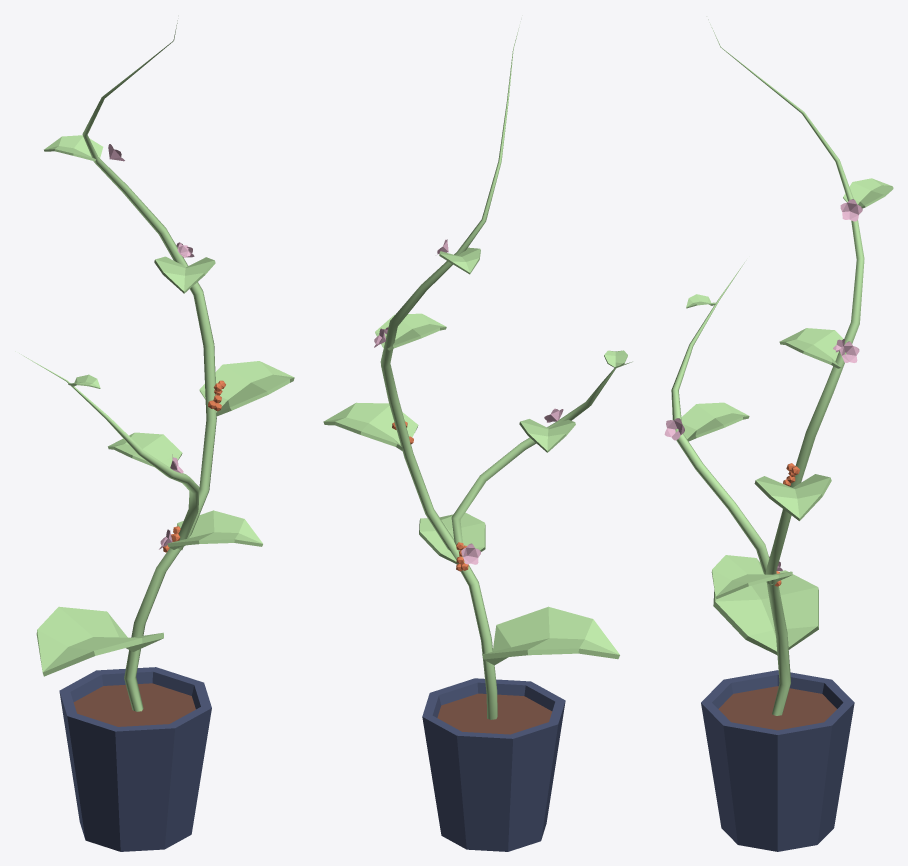
File: Level2.3.fbx
3 renders of one model, left to right at view 1: azimuth 30°, elevation 25°; view 2: azimuth 150°, elevation 25°; view 3: azimuth 270°, elevation 25°, orthographic. The views are drawn at different scales.
Visible parts, largest first — view 1: Pot, Stem1, Leaf1, Leaf3, Leaf2, Stem2, Leaf3.003, Leaf3.001, Leaf3.004, Flower.004; view 2: Pot, Stem1, Leaf1, Leaf3, Stem2, Leaf2, Leaf3.001, Leaf3.003, Flower.004, Leaf3.004; view 3: Pot, Stem1, Leaf1, Stem2, Leaf3, Leaf2, Leaf3.003, Leaf3.001, Flower.004, Leaf3.004.
Part boxes in pixels (left/top/right/bottom): Pot: left=59, top=667, right=211, bottom=851; Stem1: left=82, top=20, right=216, bottom=711; Leaf1: left=36, top=606, right=163, bottom=676; Leaf3: left=199, top=361, right=294, bottom=416; Leaf2: left=167, top=510, right=262, bottom=549; Stem2: left=15, top=351, right=199, bottom=550; Leaf3.003: left=108, top=432, right=182, bottom=467; Leaf3.001: left=154, top=256, right=215, bottom=293; Leaf3.004: left=44, top=135, right=103, bottom=163; Flower.004: left=108, top=144, right=194, bottom=549; Pot: left=422, top=678, right=565, bottom=851; Stem1: left=380, top=27, right=519, bottom=719; Leaf1: left=482, top=606, right=619, bottom=665; Leaf3: left=323, top=402, right=418, bottom=450; Stem2: left=451, top=361, right=632, bottom=552; Leaf2: left=419, top=512, right=485, bottom=564; Leaf3.001: left=375, top=313, right=446, bottom=350; Leaf3.003: left=519, top=419, right=575, bottom=452; Flower.004: left=374, top=239, right=563, bottom=564; Leaf3.004: left=439, top=247, right=480, bottom=274; Pot: left=701, top=670, right=854, bottom=851; Stem1: left=708, top=19, right=864, bottom=715; Leaf1: left=713, top=570, right=818, bottom=654; Stem2: left=671, top=261, right=773, bottom=584; Leaf3: left=754, top=474, right=831, bottom=520; Leaf2: left=711, top=555, right=792, bottom=599; Leaf3.003: left=681, top=402, right=749, bottom=441; Leaf3.001: left=779, top=328, right=843, bottom=368; Flower.004: left=664, top=199, right=862, bottom=570; Leaf3.004: left=843, top=178, right=893, bottom=208.
Size of the model in its own units: 733 by 1920 by 488.
